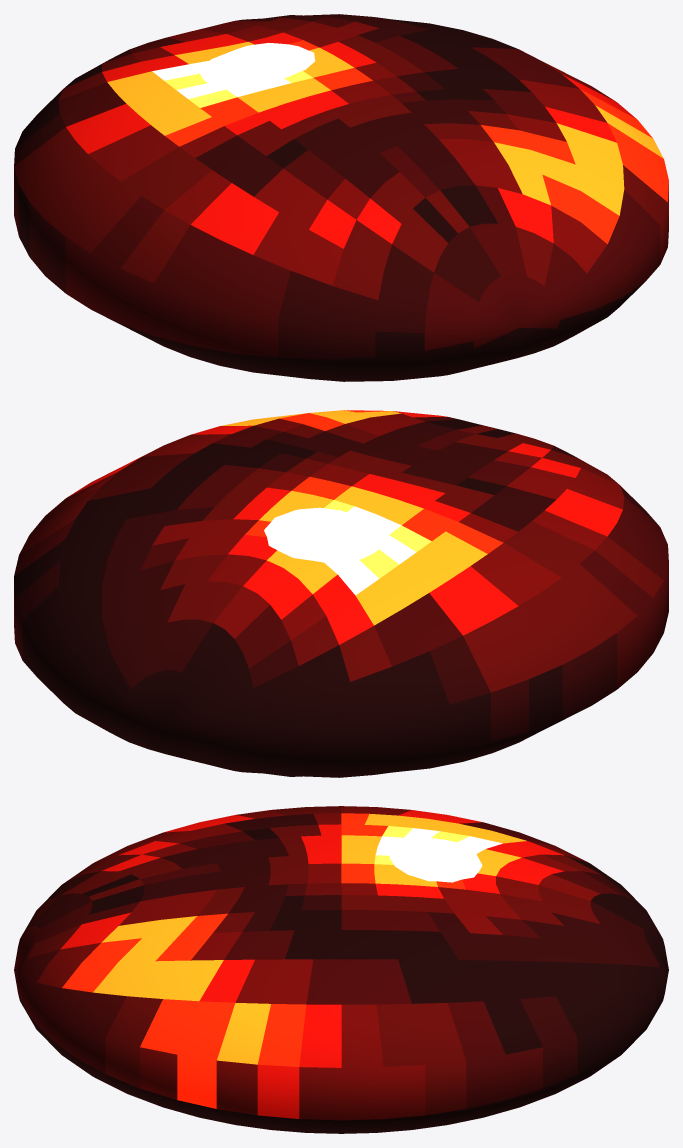
Rendered from newshg-77-f3.glb.
3 renders of one model, top to bottom at view 1: azimuth 30°, elevation 25°; view 2: azimuth 150°, elevation 25°; view 3: azimuth 270°, elevation 25°, orthographic. The views are drawn at different scales.
Parts seen in each view (by area): view 1: newshg-77-f3; view 2: newshg-77-f3; view 3: newshg-77-f3.
Boxes of the visible parts, bbox=[...] form: newshg-77-f3: bbox=[14, 14, 668, 381]; newshg-77-f3: bbox=[14, 410, 668, 777]; newshg-77-f3: bbox=[14, 806, 668, 1133].
Size of the model in its own units: 1.47 by 0.5748 by 1.63.
